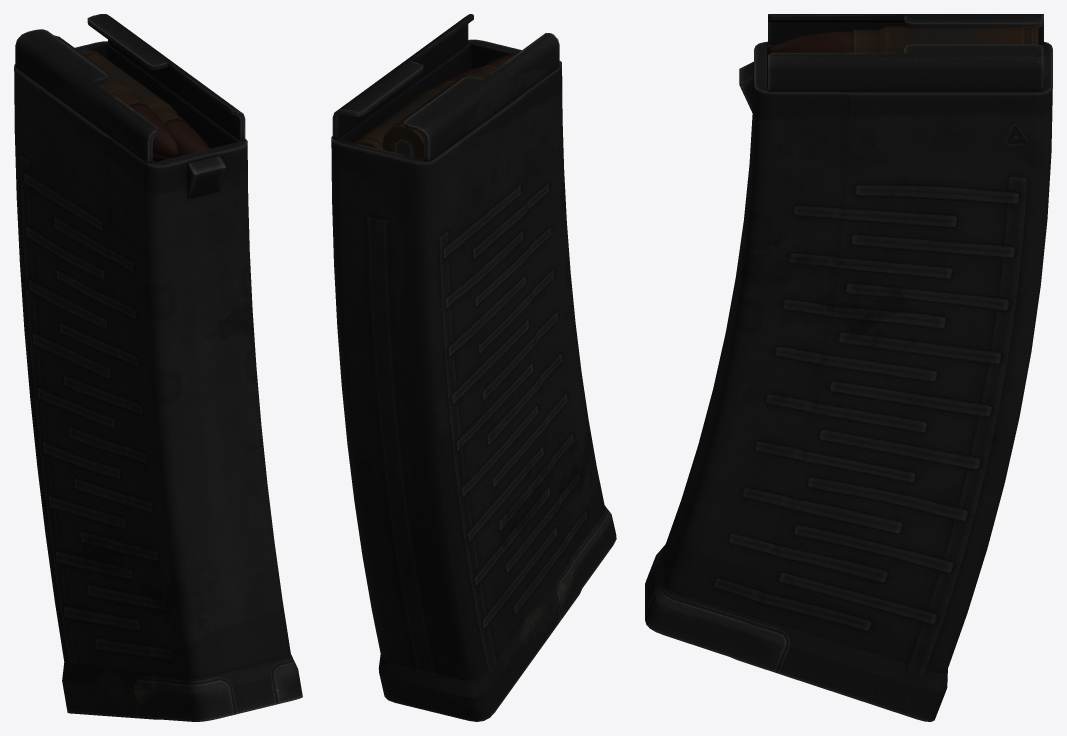
File: magazine_asval.FBX
3 views of the same model, side by side, from view 1: azimuth 30°, elevation 25°; view 2: azimuth 150°, elevation 25°; view 3: azimuth 270°, elevation 25° (orthographic). The views are drawn at different scales.
Visible parts, largest first — view 1: magazine, cartridge001, cartridge; view 2: magazine, cartridge, cartridge001; view 3: magazine, cartridge.
Part boxes in pixels (x1,y1,x2,y2): magazine: (14, 14, 302, 721); cartridge001: (81, 50, 210, 159); cartridge: (54, 35, 178, 158); magazine: (331, 14, 616, 721); cartridge: (382, 52, 518, 159); cartridge001: (354, 67, 478, 149); magazine: (645, 14, 1052, 721); cartridge: (766, 26, 1038, 54).
Bounding box in the file's own units: 1.07 × 6.01 × 3.35.
